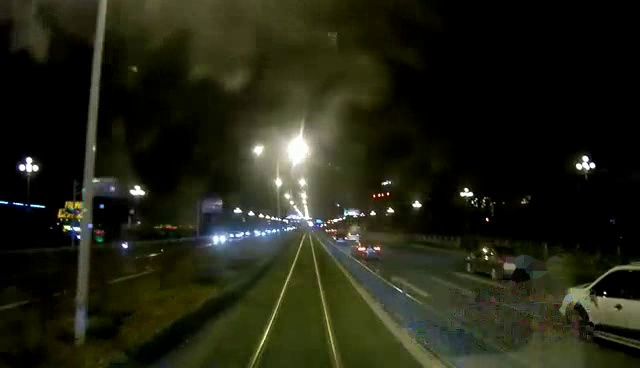car: (563, 262, 640, 345), (351, 241, 384, 260)
